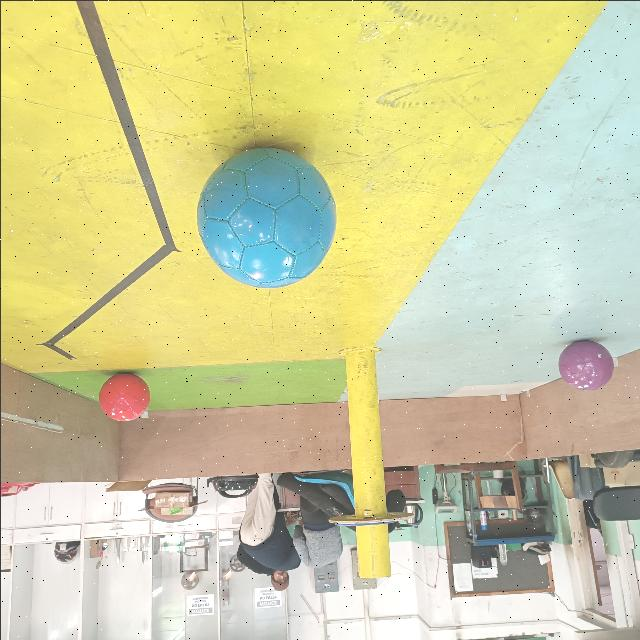B: (190, 141, 340, 291)
P: (556, 338, 614, 392)
R: (97, 368, 151, 424)
